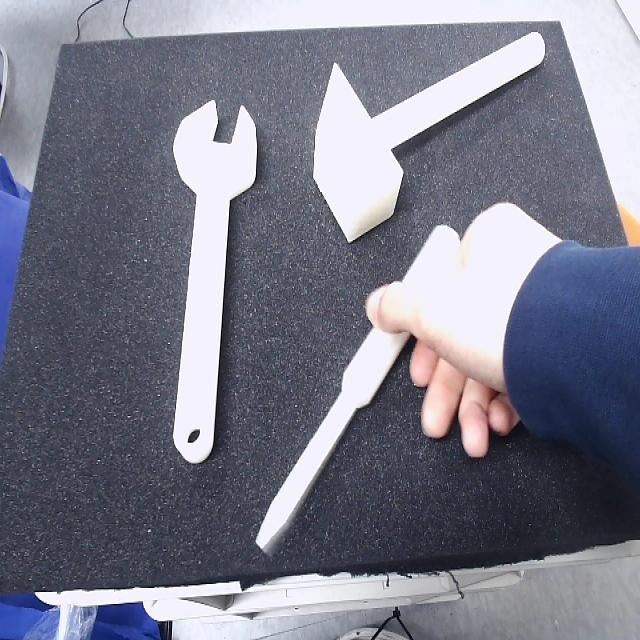Hammer: (314, 32, 546, 244)
Spanner: (171, 100, 259, 467)
